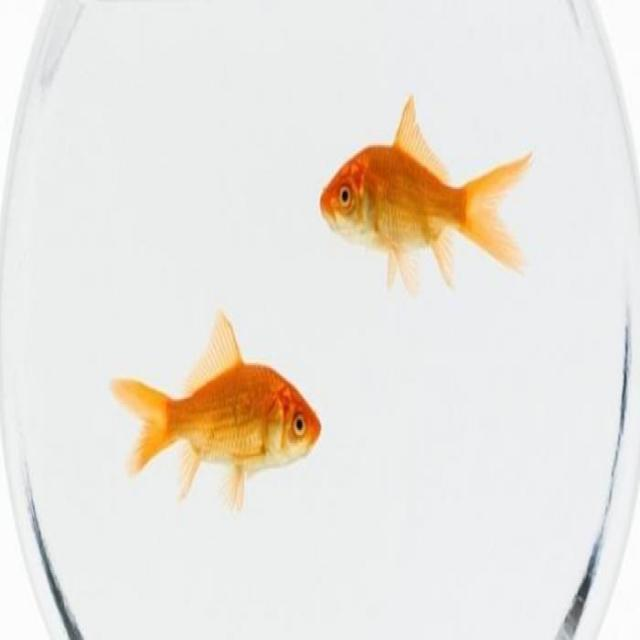GoldFish: (103, 306, 327, 515), (317, 92, 537, 292)
